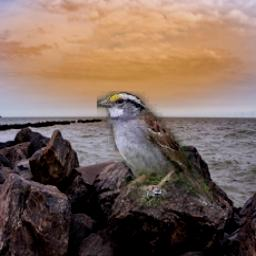Sparrow: (97, 92, 213, 207)
